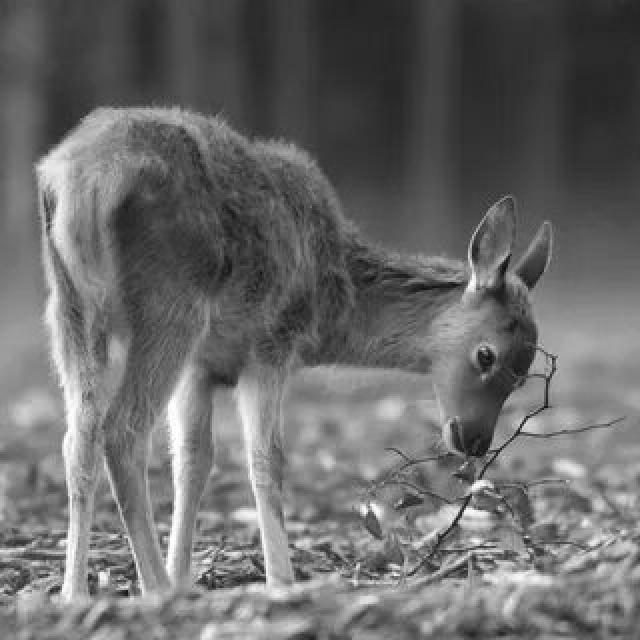Deer: (66, 80, 548, 524)
